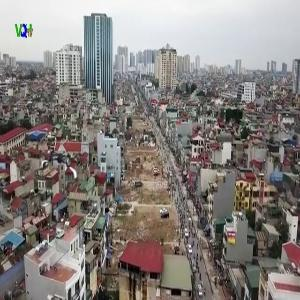drone: (41, 144, 79, 182)
